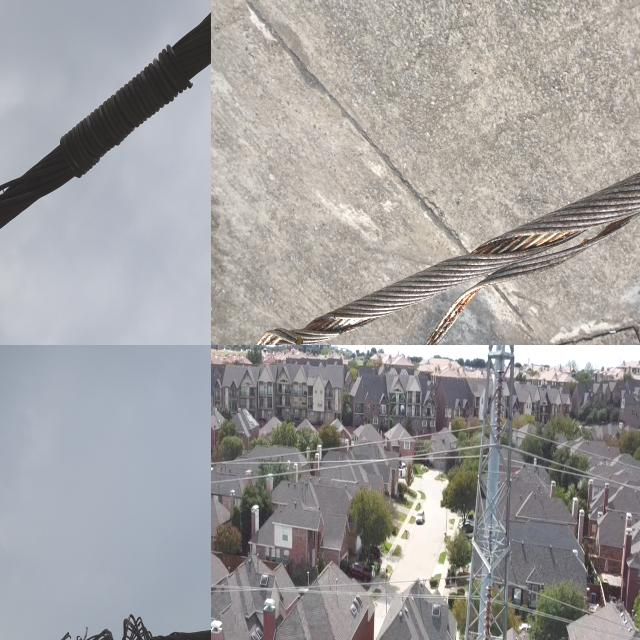杆塔: (461, 345, 517, 640)
正常绝缘子: (494, 357, 506, 446), (482, 578, 494, 640)
电缆破损: (0, 16, 206, 263), (403, 0, 640, 185)
